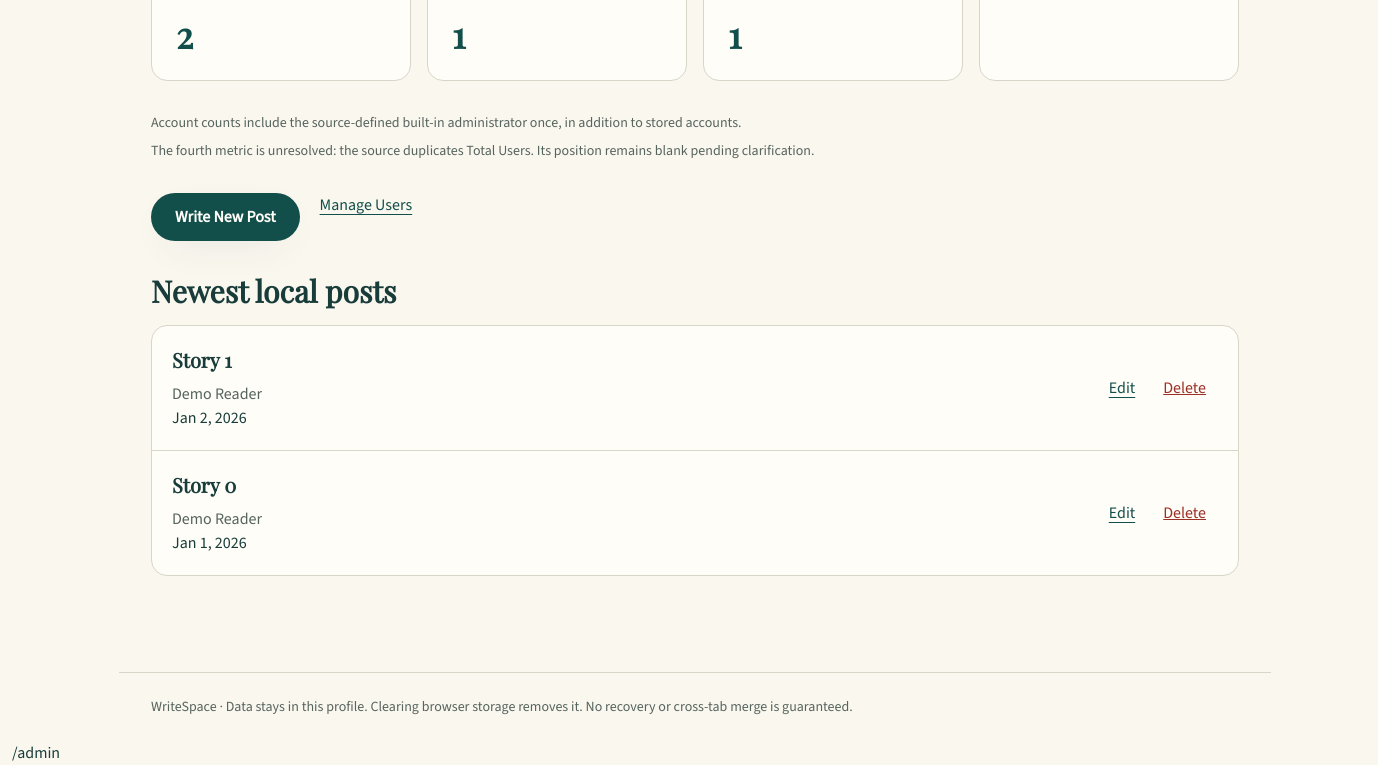
real dashboard and routed controls › cancels inline deletion in place, then confirms deletion and navigates to blogs
(page scrolled)
Click the button with aria-label "Delete Story 0": (1185, 513) [1151,491,1218,535]
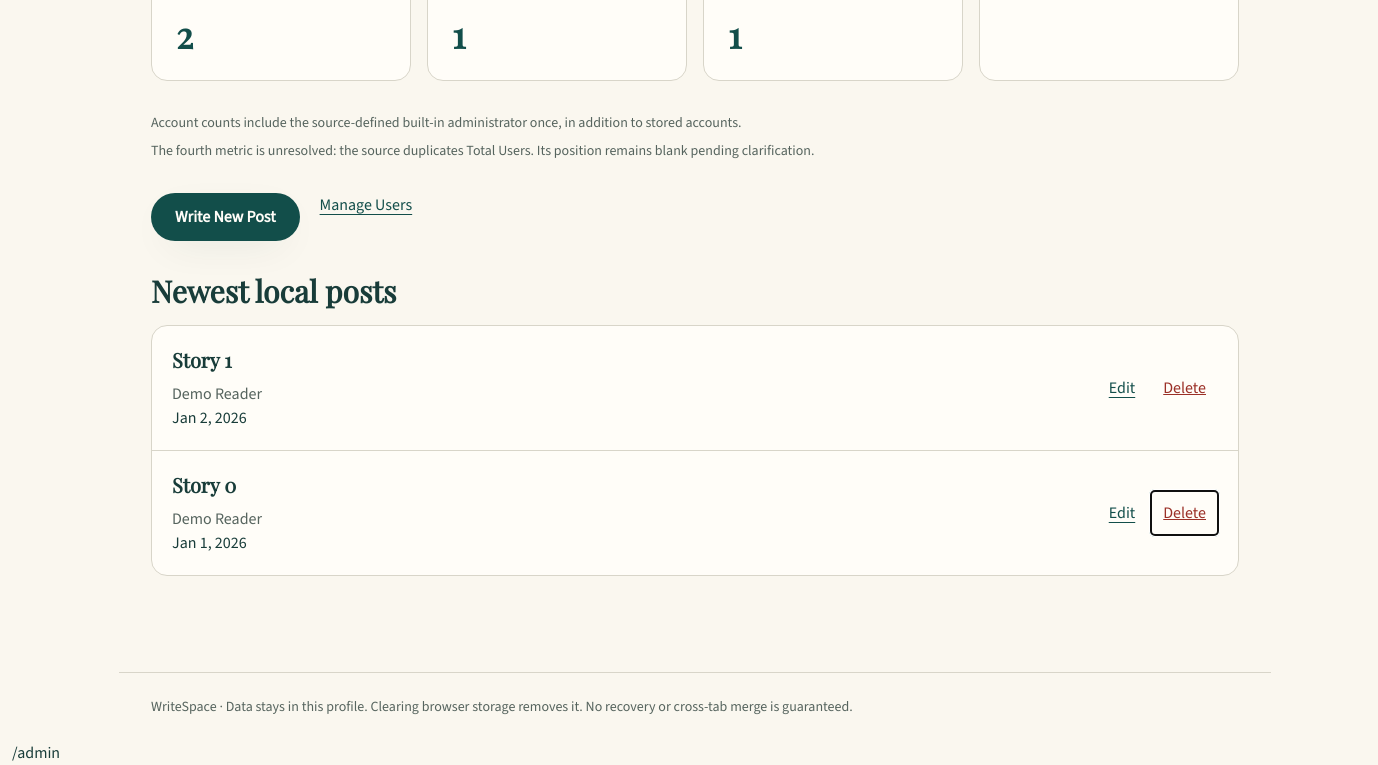
Check: the text named "Current route" reads "/admin", box [12,742,60,763]
Click the button with aria-label "Delete Story 0": (1185, 513) [1151,491,1218,535]
(page scrolled)
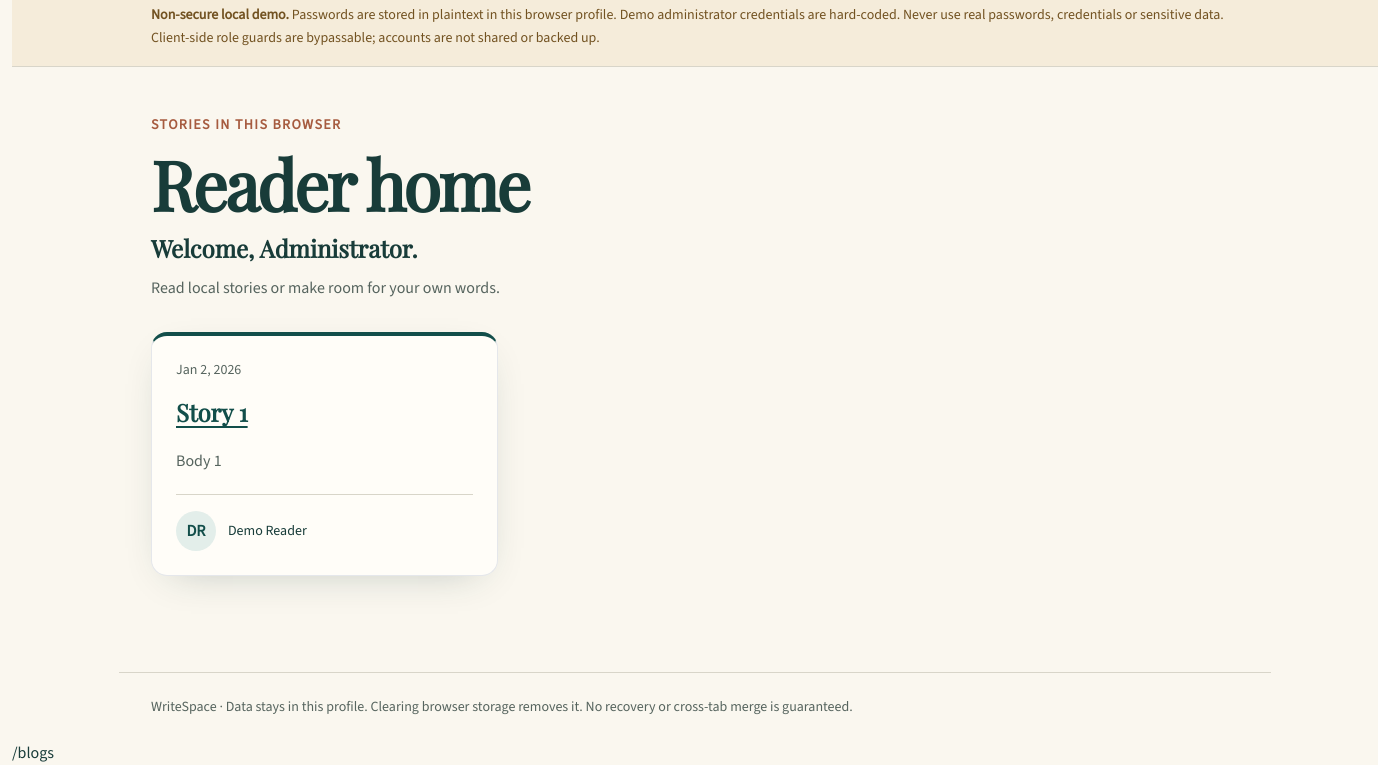
Check: the text named "Current route" reads "/blogs", box [12,742,54,763]
